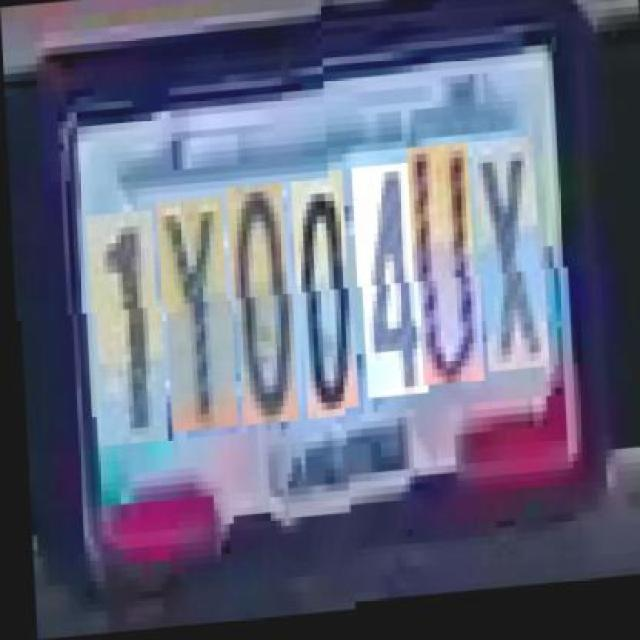1: (88, 212, 164, 448)
4: (354, 178, 424, 413)
o: (228, 187, 294, 430), (293, 182, 355, 426)
u: (409, 158, 480, 402)
x: (474, 154, 546, 389)
y: (158, 199, 233, 435)
